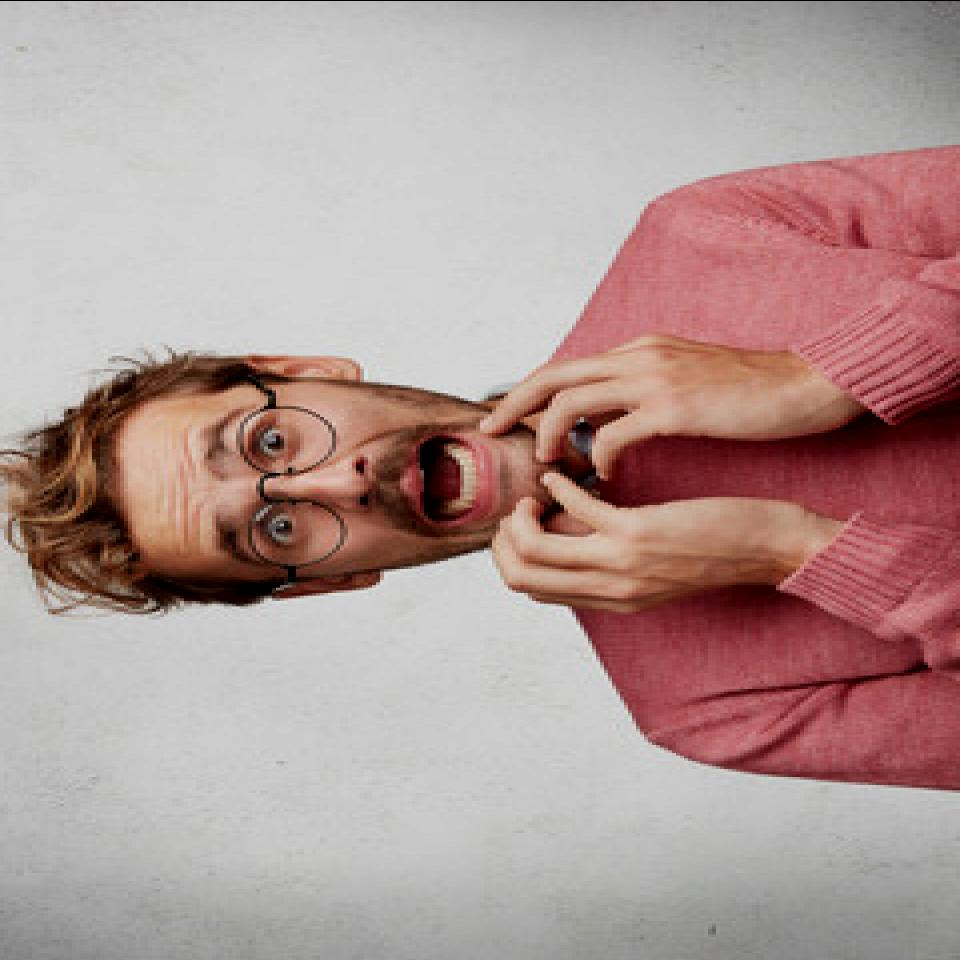Scared: (122, 380, 573, 576)
